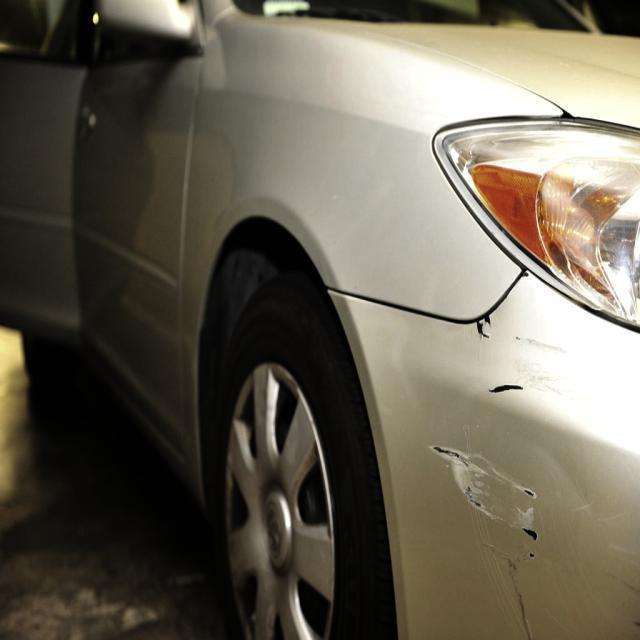minor: (542, 430, 611, 517), (492, 538, 533, 640)
moderate: (425, 381, 537, 539)
